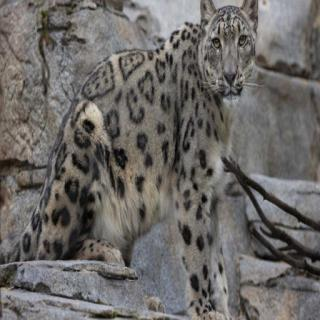Leopard: (61, 0, 320, 288)
